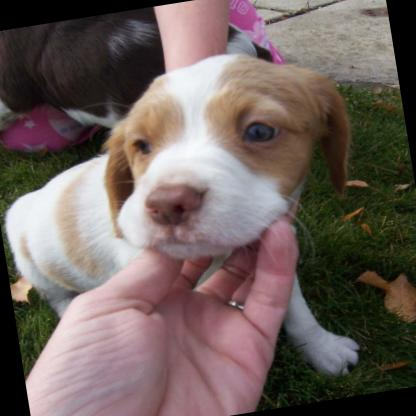Brittany_spaniel: (0, 32, 394, 416)
